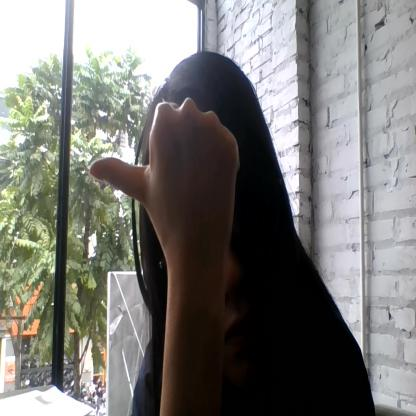right: (90, 96, 241, 277)
